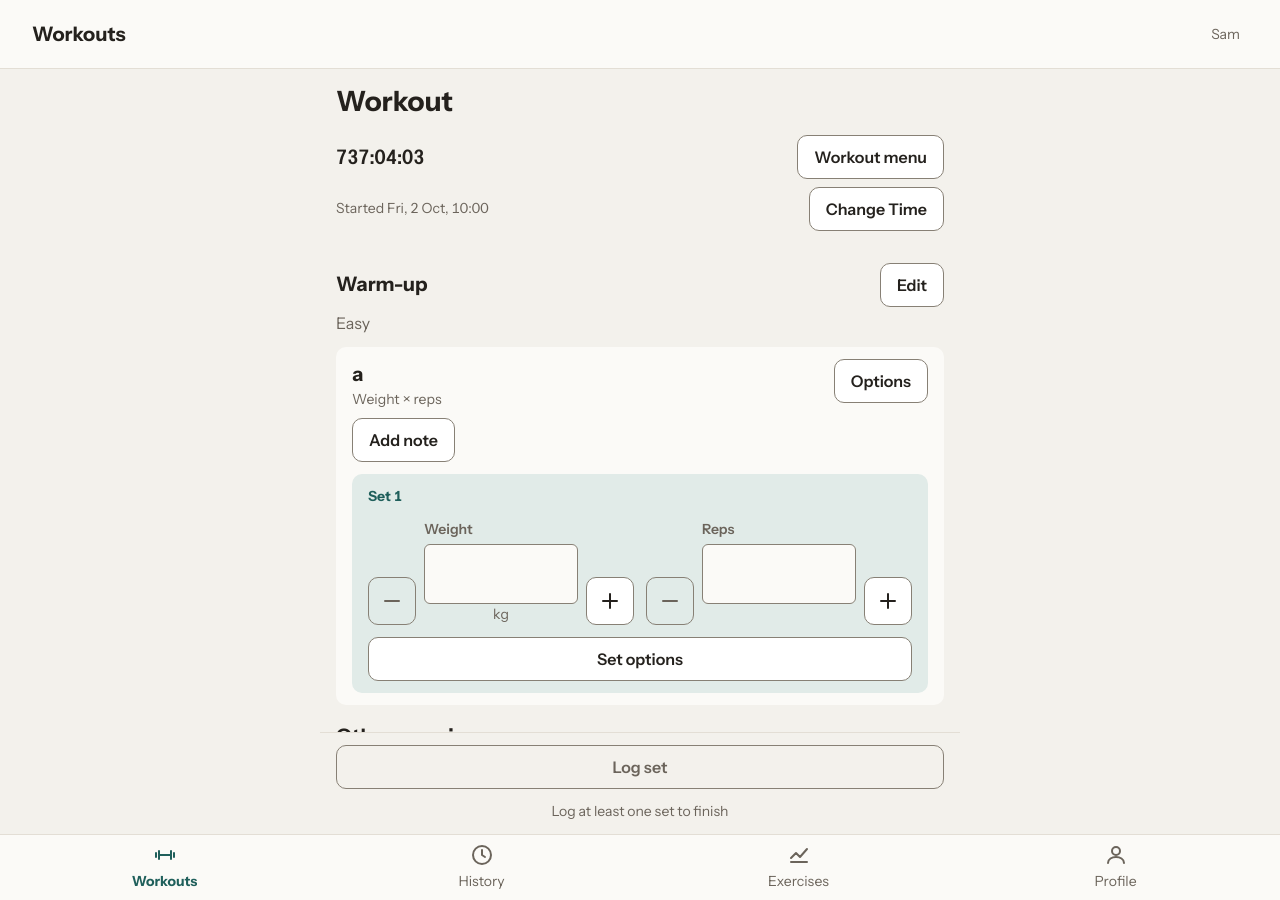
Test: 10.6 AC1 — Edit on headings › a split section shows one Edit; Other exercises has none; Edit opens Edit section
The width and height of the screenshot is (1280, 900).
Expected: the heading "Workout" is shown, [336,84,453,118]
Expected: the button "Edit section" is not shown
Click the button with aria-label "Edit section Warm-up". click: (912, 285)
box: [880,263,944,307]
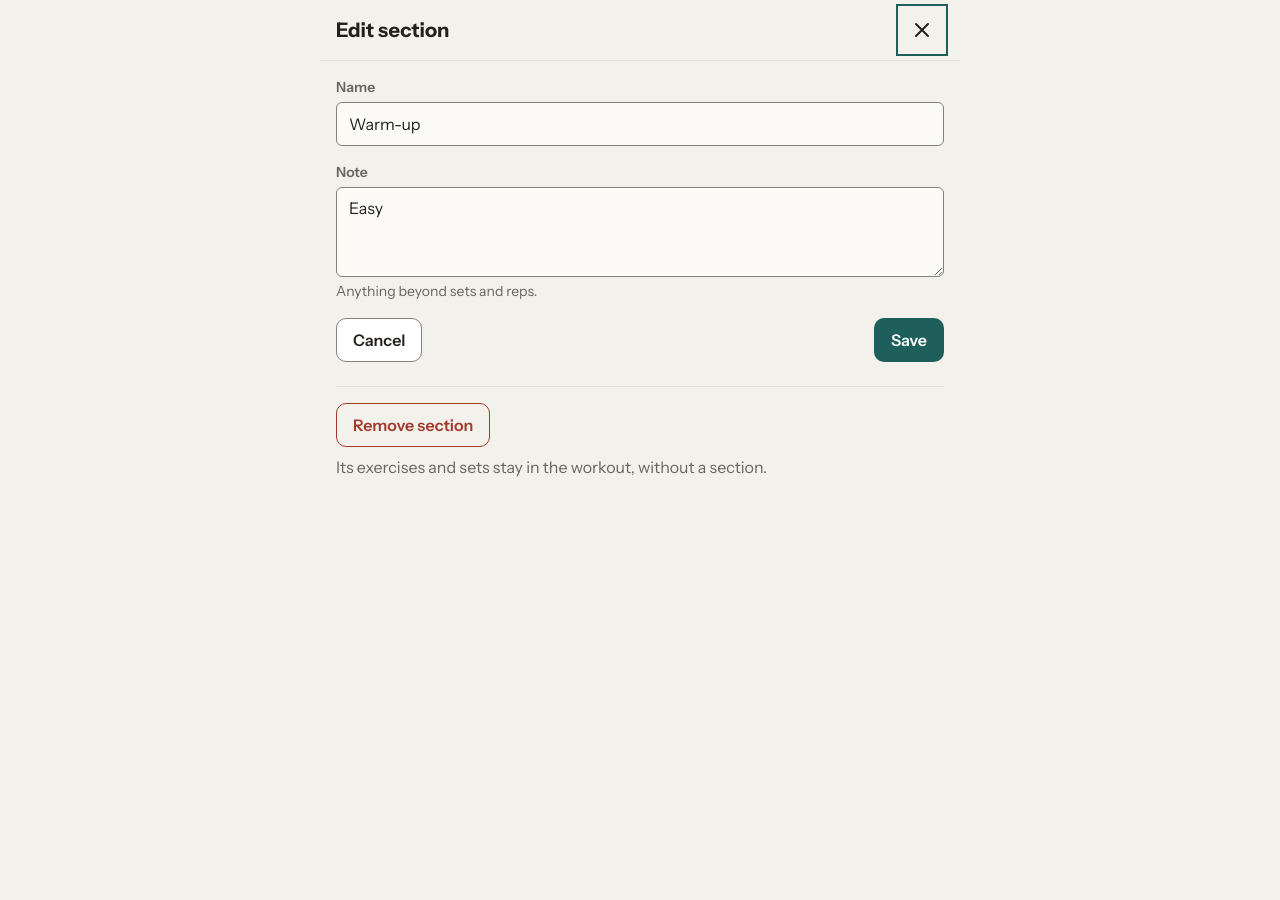
Expected: the field labelled "Name" holds "Warm-up", [336,102,944,146]
